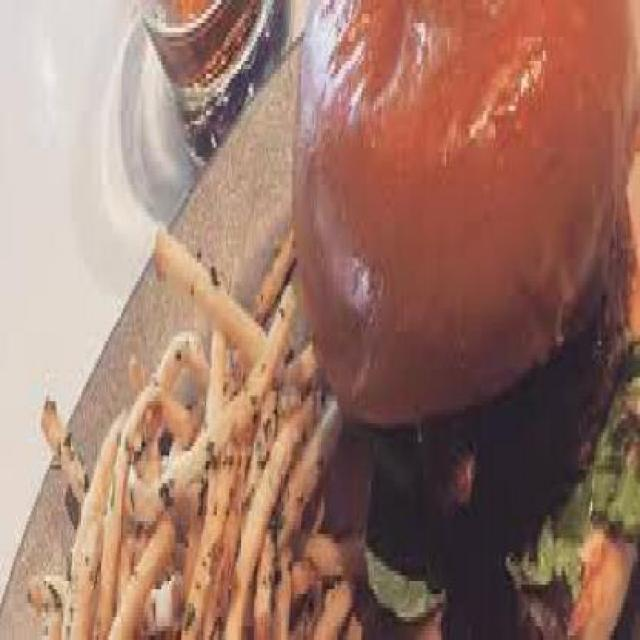french fries: (23, 207, 362, 636)
